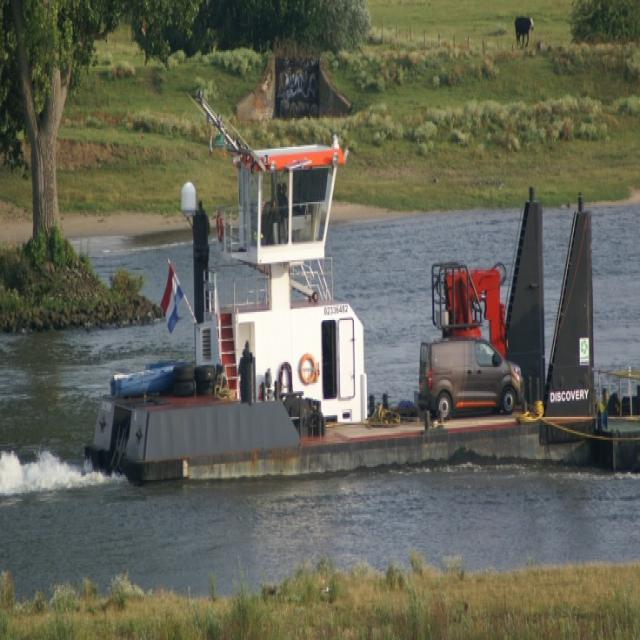tugboat: (83, 124, 603, 504)
